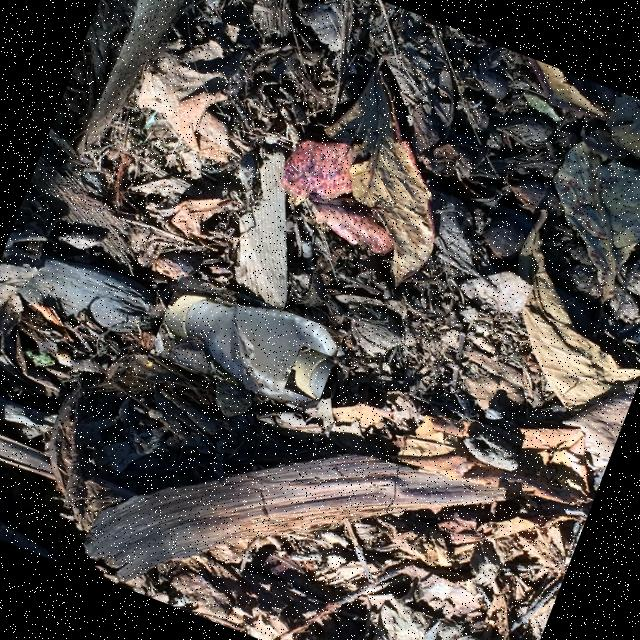Other plastic container: (165, 295, 336, 403)
Plastic bottle cap: (292, 353, 328, 402)
